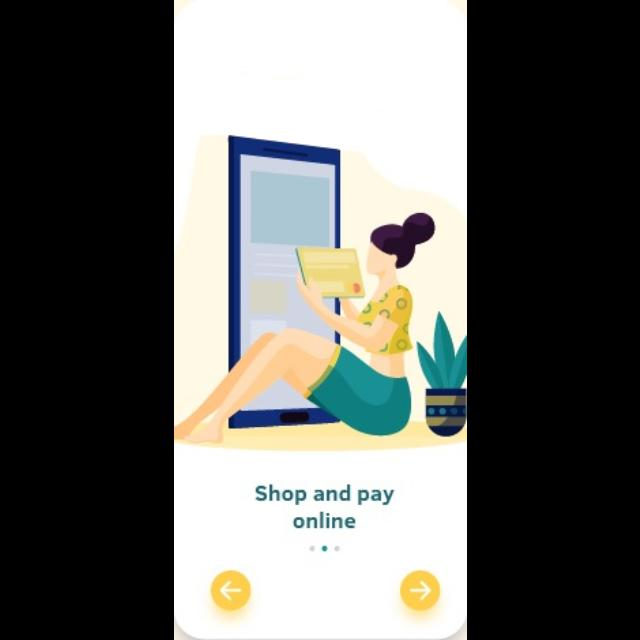icon: (210, 569, 250, 611), (400, 571, 440, 611)
image: (174, 135, 466, 451)
pageindicator: (308, 545, 340, 553)
text: (255, 483, 395, 529)
